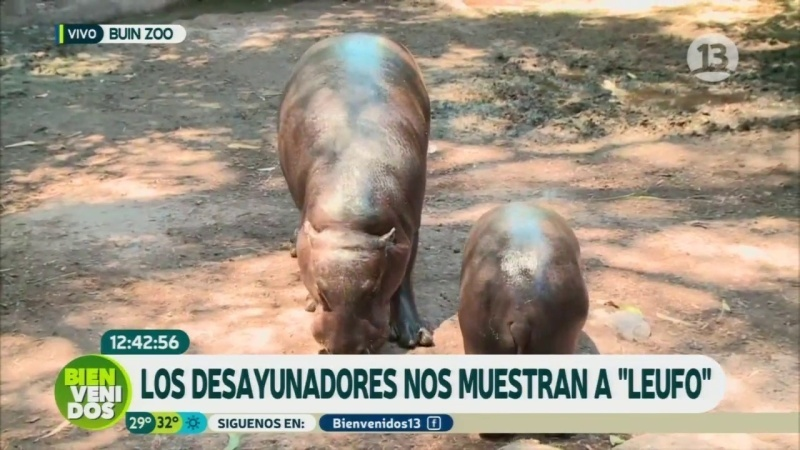hipopotamo: (261, 23, 440, 354), (443, 188, 615, 353)
